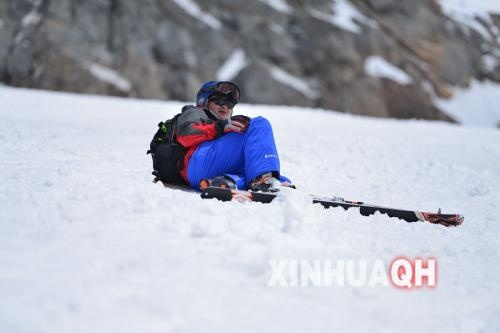falling: (138, 73, 306, 214)
